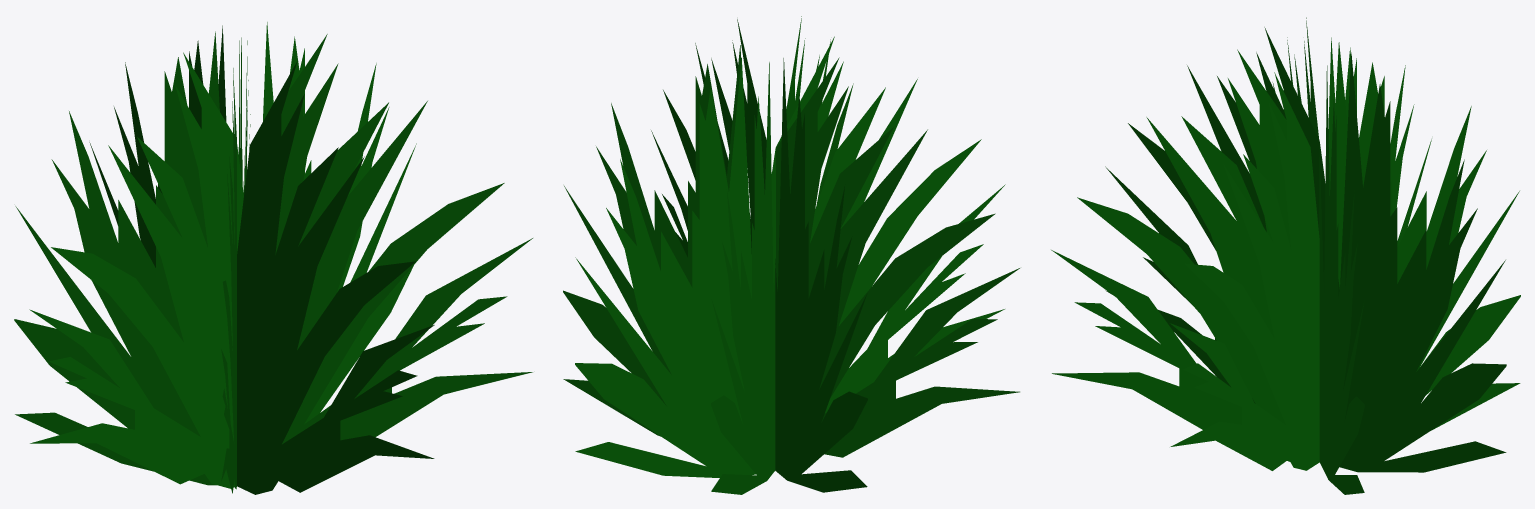
File: Vegetation_Modular_New_Tropical_Plant_04.FBX
3 renders of one model, left to right at view 1: azimuth 30°, elevation 25°; view 2: azimuth 150°, elevation 25°; view 3: azimuth 270°, elevation 25°, orthographic. The views are drawn at different scales.
Parts seen in each view (by area): view 1: Vegetation_Modular_New_Tropical_Plant_04; view 2: Vegetation_Modular_New_Tropical_Plant_04; view 3: Vegetation_Modular_New_Tropical_Plant_04.
Boxes of the visible parts, bbox=[...] form: Vegetation_Modular_New_Tropical_Plant_04: bbox=[14, 22, 532, 494]; Vegetation_Modular_New_Tropical_Plant_04: bbox=[563, 16, 1019, 494]; Vegetation_Modular_New_Tropical_Plant_04: bbox=[1051, 17, 1520, 494].
Size of the model in its own units: 1263 by 1212 by 1231.
